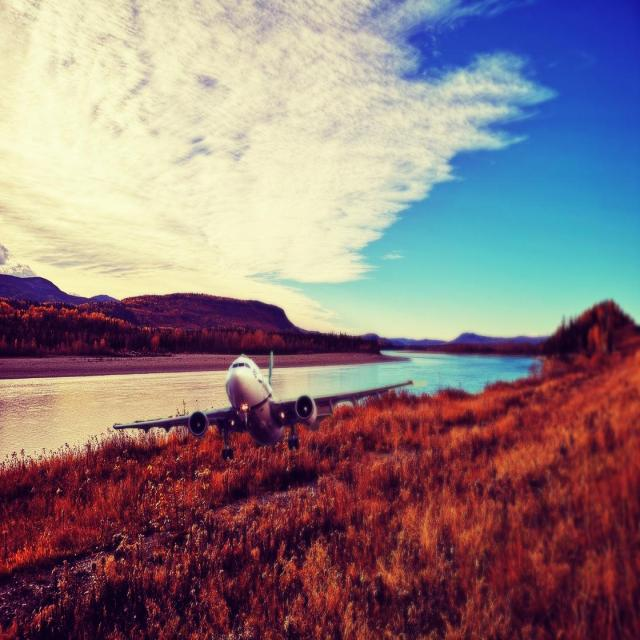airplane: (112, 350, 413, 460)
